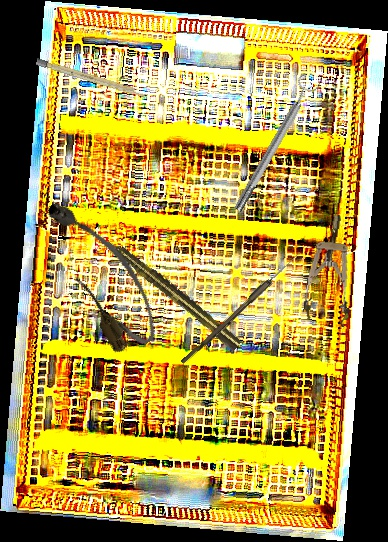Cannula: (37, 185, 168, 360)
Fixation Ring: (226, 72, 323, 216)
Handpiece: (99, 231, 243, 353)
Scalpel Handle: (35, 58, 149, 99)
Speculum: (301, 212, 362, 328)
Surgical Spoon: (180, 249, 303, 367)
